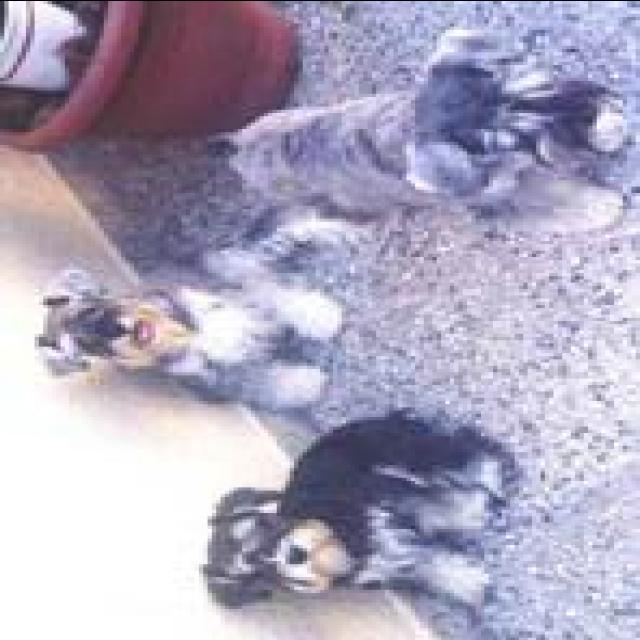standard_schnauzer: (212, 32, 636, 224), (199, 410, 527, 618), (35, 224, 346, 416)
